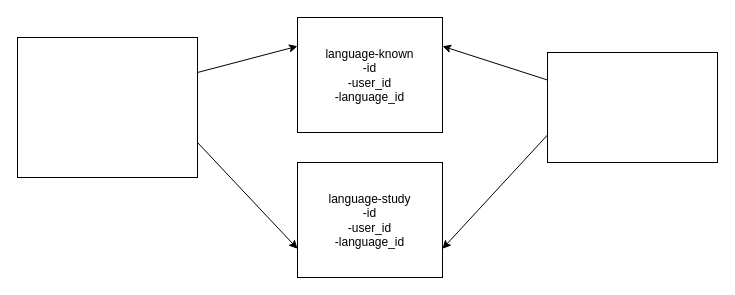
Some shapes in this 735 by 295 pixel diagram are drawn without their labels. The box of each missing label's shape, as (x1, y1, x2, y2) in pixels:
Language -id -name: (546, 52, 718, 162)
User -id -name -email -password -city -profile: (16, 36, 198, 178)
